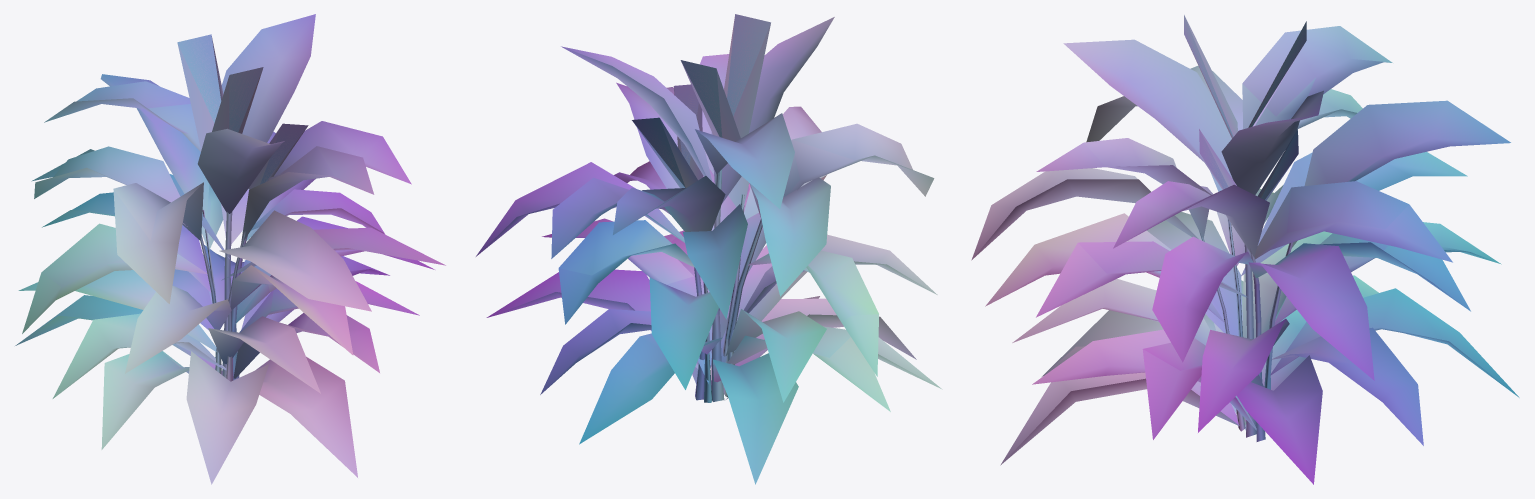
3 views of the same model, side by side, from view 1: azimuth 30°, elevation 25°; view 2: azimuth 150°, elevation 25°; view 3: azimuth 270°, elevation 25° (orthographic). The views are drawn at different scales.
Visible parts, largest first — view 1: SM_BS_Aglaonema_120cm; view 2: SM_BS_Aglaonema_120cm; view 3: SM_BS_Aglaonema_120cm.
Boxes of the visible parts, x1,y1,x2,y2 form: SM_BS_Aglaonema_120cm: (15, 14, 445, 484); SM_BS_Aglaonema_120cm: (476, 14, 942, 484); SM_BS_Aglaonema_120cm: (971, 15, 1519, 484).
Bounding box in the file's own units: 55.43 × 50.94 × 47.06.
